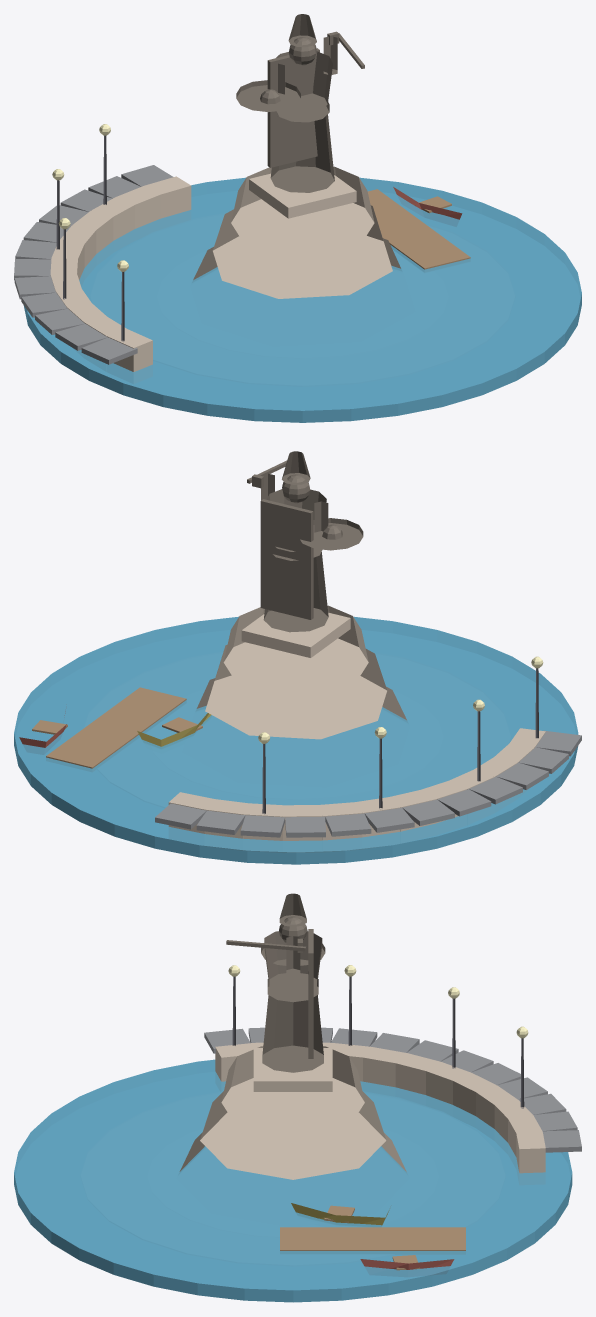
The model's file is upper_lake_bhopal.glb.
3 renders of one model, top to bottom at view 1: azimuth 30°, elevation 25°; view 2: azimuth 150°, elevation 25°; view 3: azimuth 270°, elevation 25°, orthographic.
Parts seen in each view (by area): view 1: UpperLakeBhopal_Root; view 2: UpperLakeBhopal_Root; view 3: UpperLakeBhopal_Root.
Boxes of the visible parts, x1,y1,x2,y2 form: UpperLakeBhopal_Root: [14, 14, 581, 422]; UpperLakeBhopal_Root: [14, 451, 581, 864]; UpperLakeBhopal_Root: [14, 893, 581, 1302].
Bounding box in the file's own units: 2.3 × 1.29 × 2.3.
